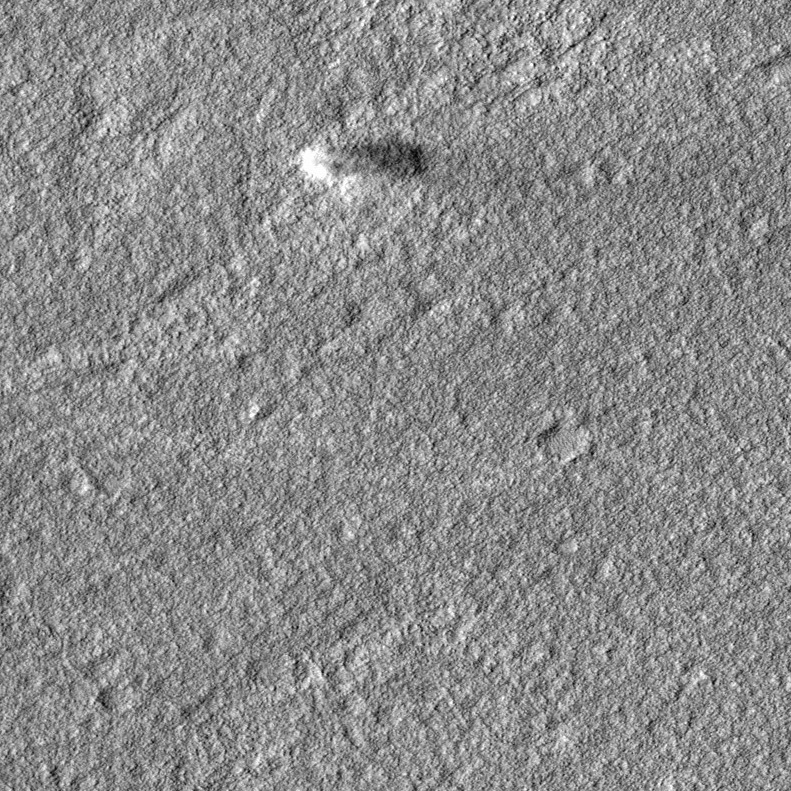dust_devil: (292, 134, 426, 188)
